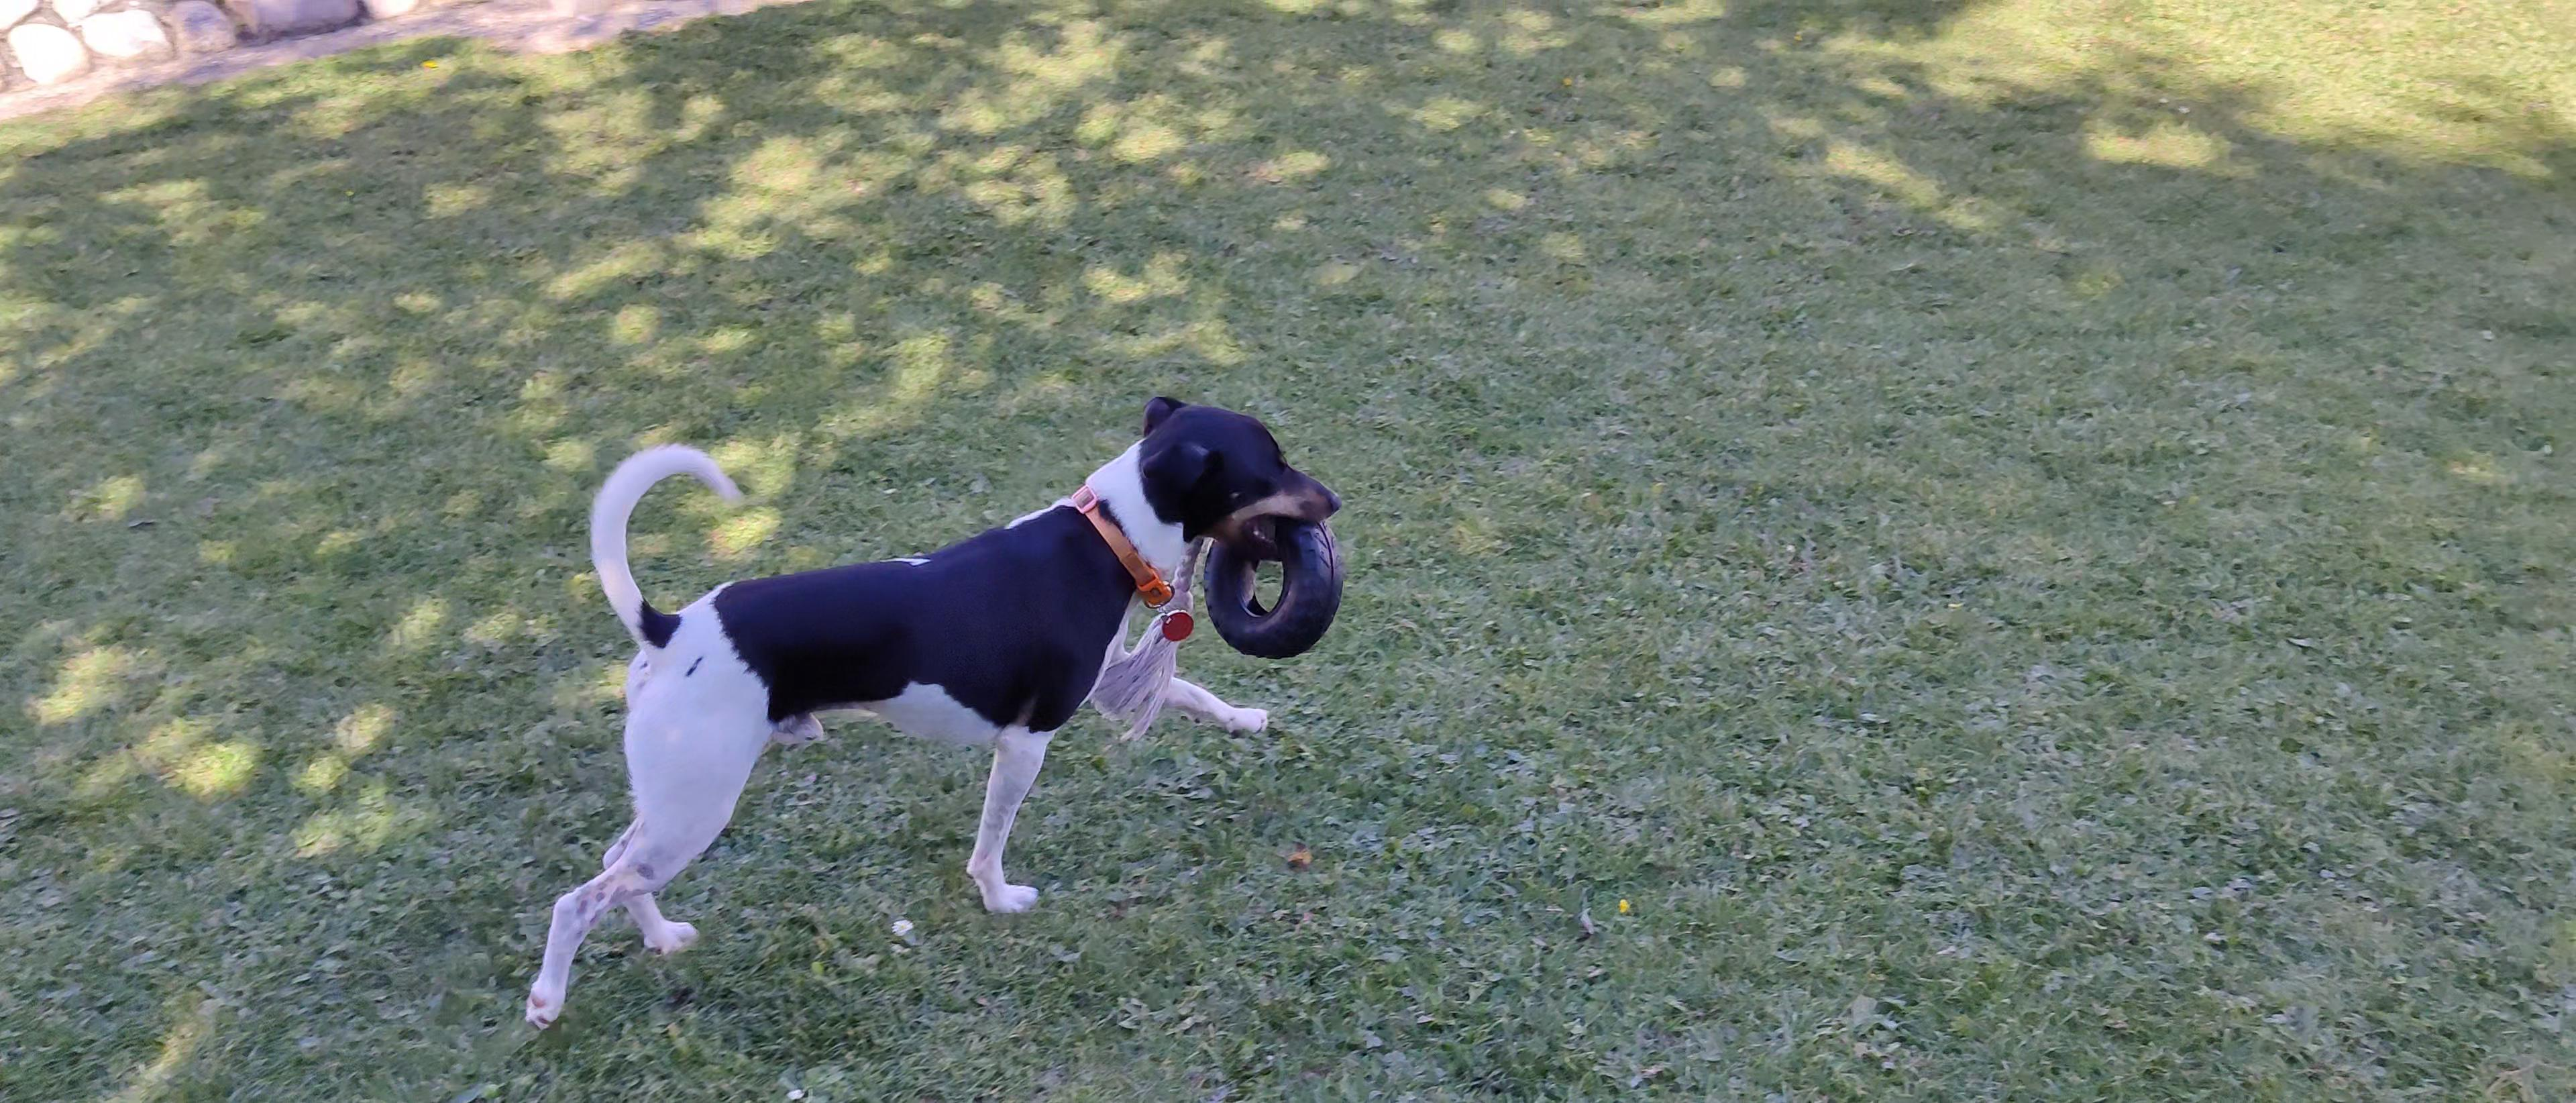Dog: (519, 373, 1342, 1021)
